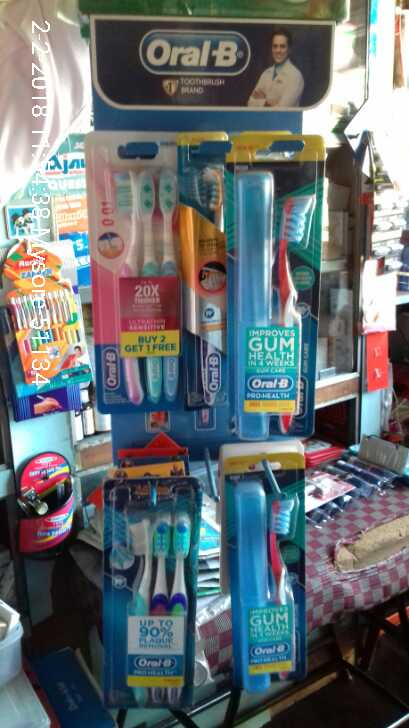oralb: (105, 471, 194, 709), (227, 469, 318, 687), (106, 169, 184, 403), (241, 171, 311, 407), (195, 166, 232, 412)
